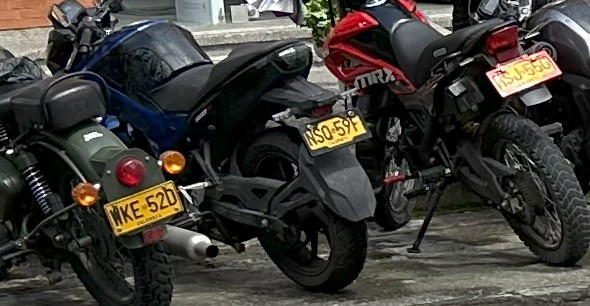number plate: (104, 181, 183, 235), (486, 51, 561, 97), (300, 111, 370, 155)
